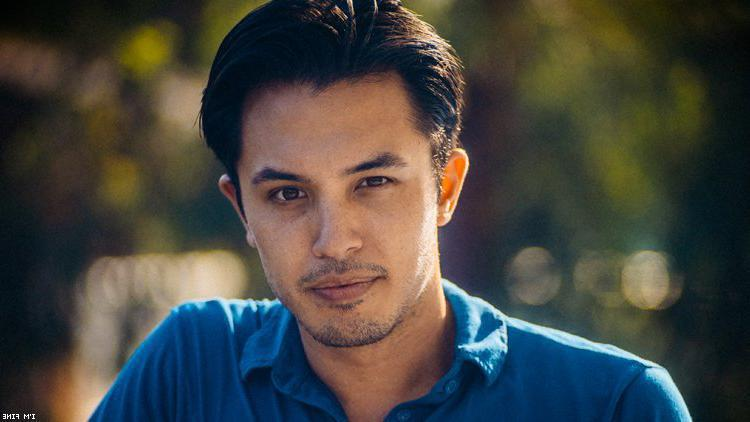Sober: (244, 95, 426, 335)
